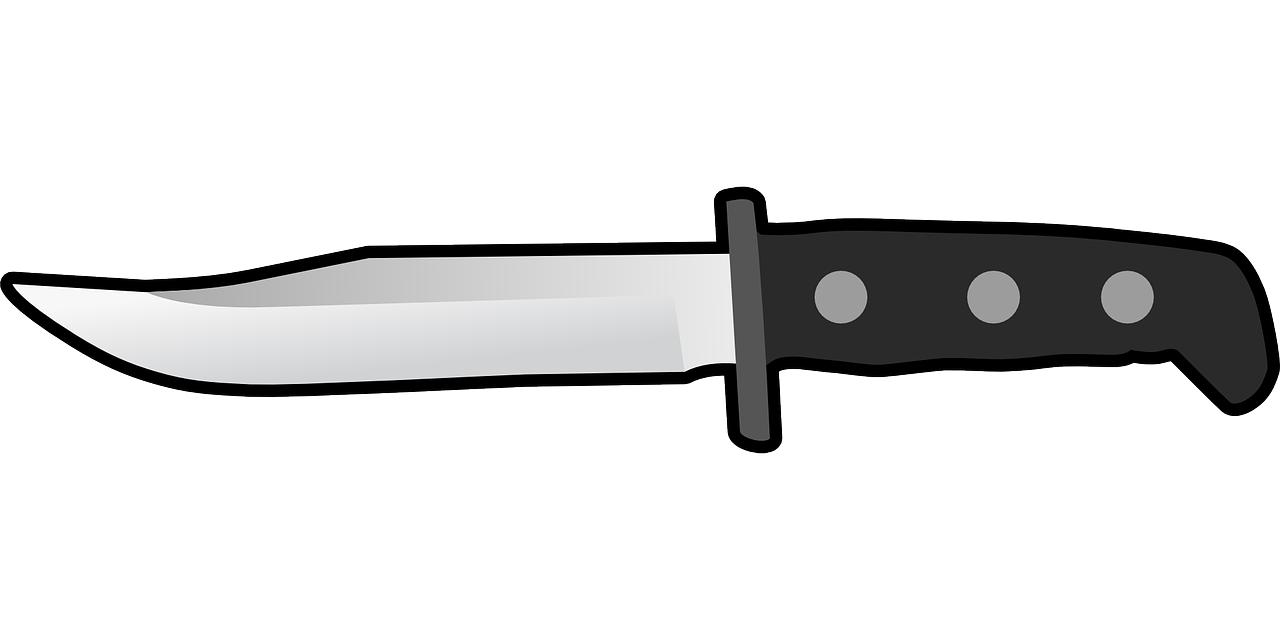knife: (4, 189, 1280, 447)
